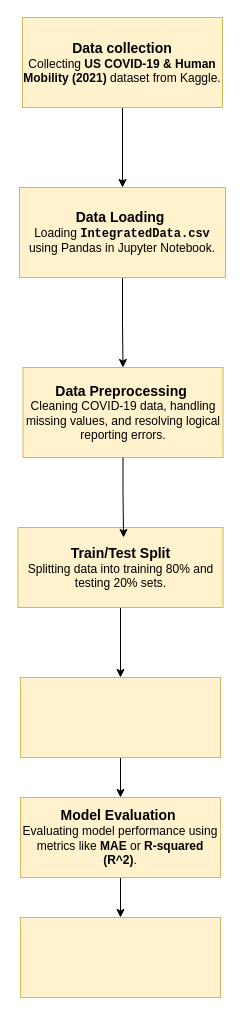
The diagram is 243 pixels wide and 1015 high, and some of its shapes have lost their labels. Here are the shapes that lost their labels. From the top down, the box of each, then its label:
(20, 676, 220, 758): Model Training Training a Regression model to predict daily COVID-19 cases .
(20, 916, 220, 998): Results Predicting daily cases based on human mobility metrics .
